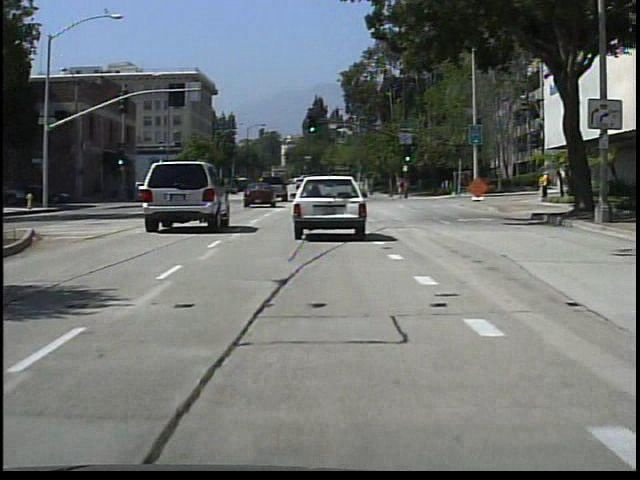person: (396, 173, 411, 204)
